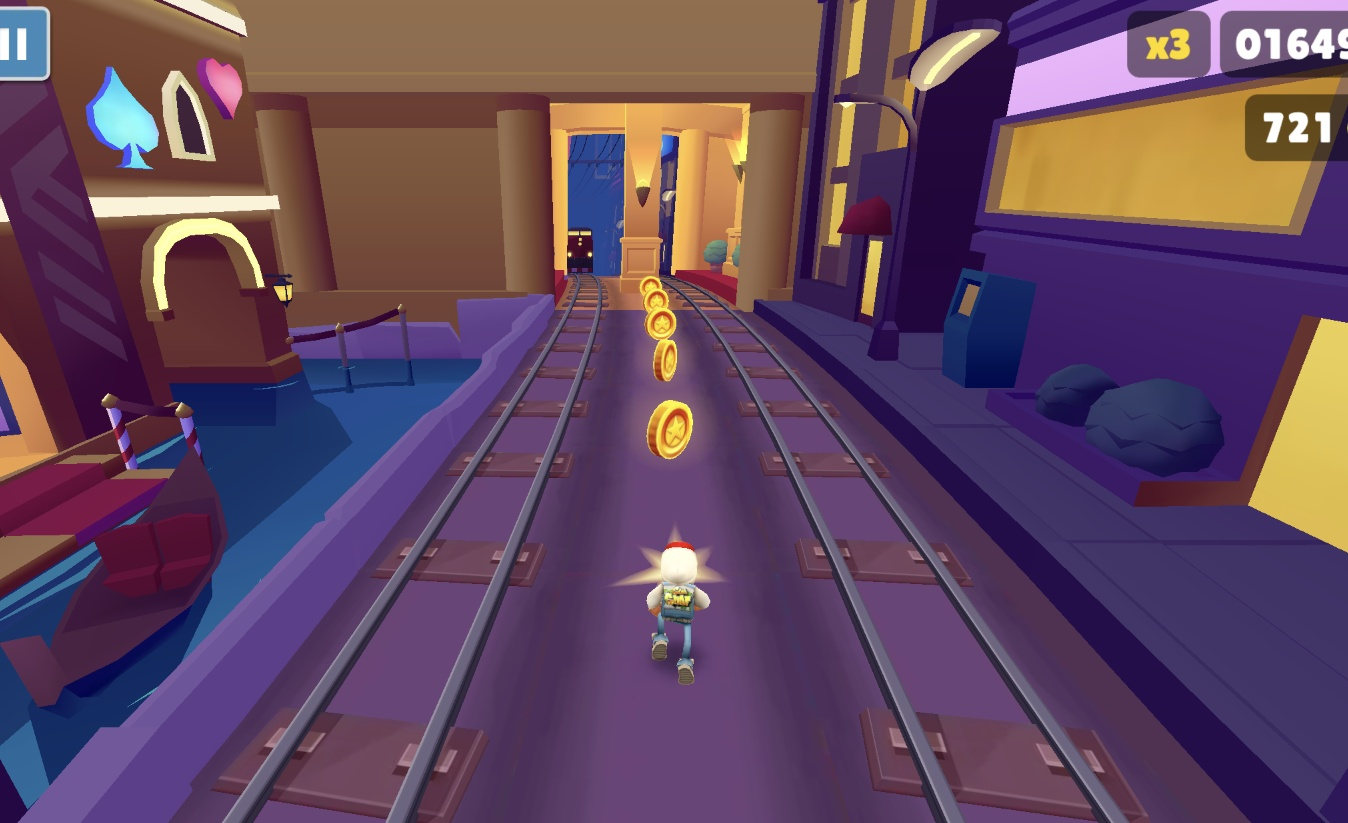pillar: (620, 103, 667, 297)
train: (570, 227, 593, 277)
